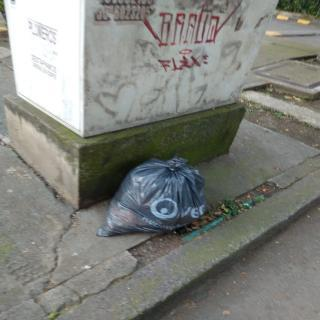Garbage: (96, 154, 210, 234)
